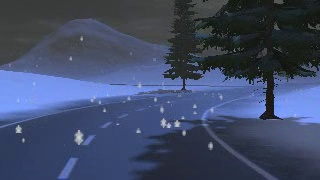Lane: (0, 87, 273, 178)
